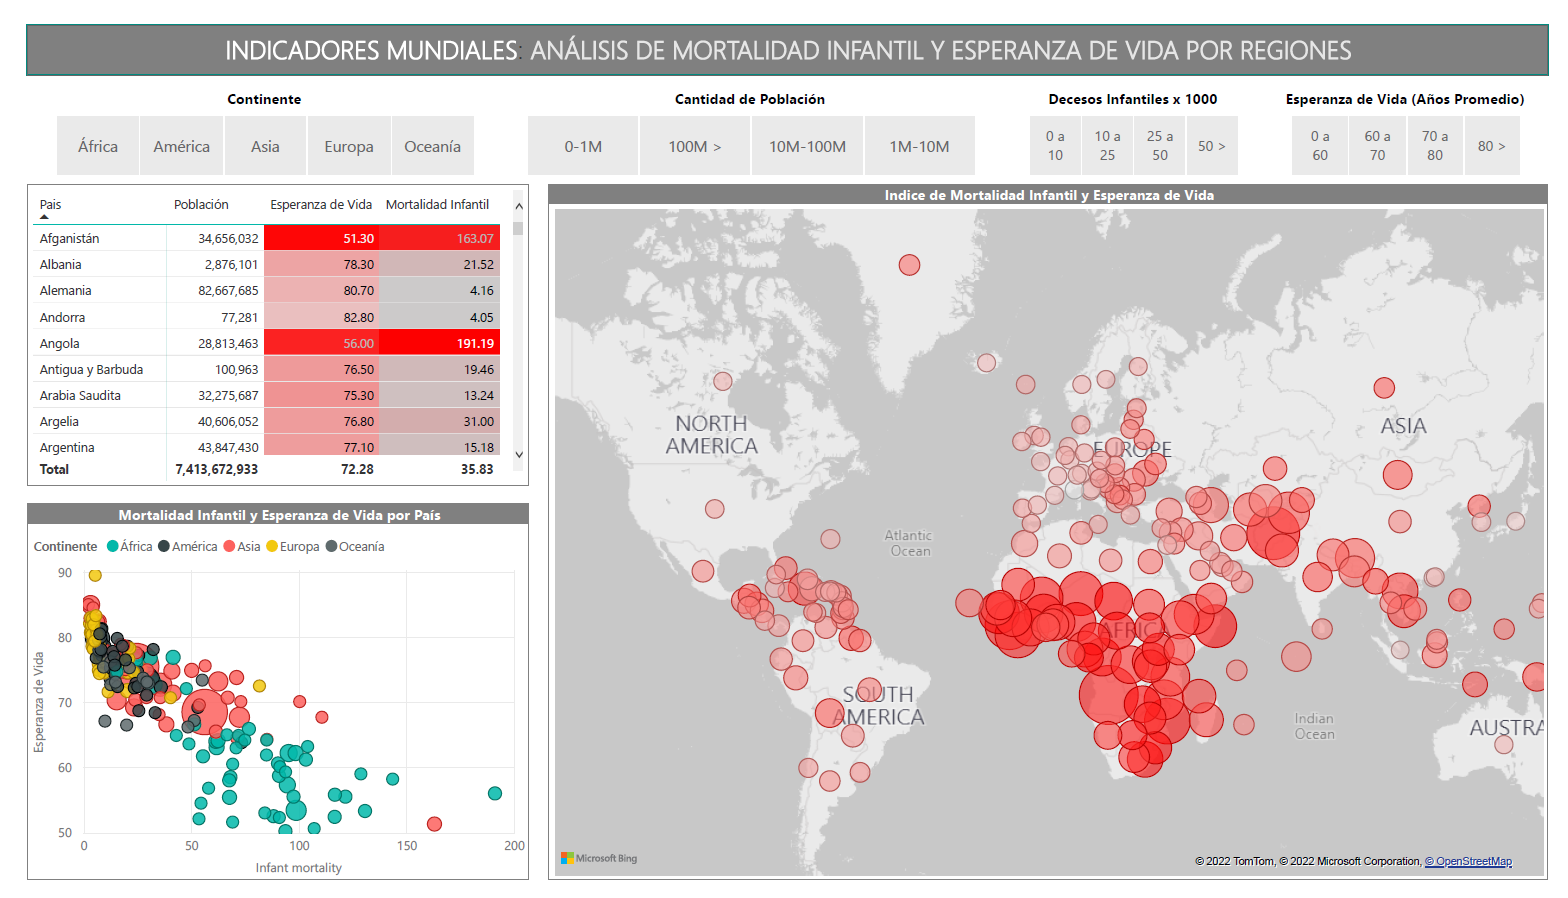

Layout of this report page (visuals, bound fields, positions):
{"tool":"powerbi","page":{"name":"Indicadores Mundiales","canvas":[1280,720],"ordinal":1},"visuals":[{"type":"slicer","title":"Esperanza de Vida (Años Promedio)","fields":{"Values":["Life expectancy.Esperanza de vida (Años promedio)"]},"box":[1038.8,54,241.2,78.9],"z":0,"group":"g1"},{"type":"pivotTable","fields":{"Rows":["Paises.Continente","Paises.Pais"],"Values":["Sum(Population.Población)","Avg(Life expectancy.Esperanza de Vida)","Avg(Infant death rate.Monrtalidad Infantil)"]},"box":[0,133.6,423.4,254.4],"z":0},{"type":"slicer","title":"Continente","fields":{"Values":["Paises.Continente"]},"box":[0,54,399.9,78.9],"z":1000,"group":"g1"},{"type":"map","title":"Indice de Mortalidad Infantil y Esperanza de Vida","fields":{"Category":["Paises.Pais"],"Size":["Sum(Infant death rate.Infant mortality)"]},"box":[438.9,133.9,841.5,586.1],"z":1000},{"type":"slicer","title":"Decesos Infantiles x 1000","fields":{"Values":["Infant death rate.Decesos infantiles x 1000"]},"box":[818.1,54,224.3,78.9],"z":2000,"group":"g1"},{"type":"scatterChart","title":"Mortalidad Infantil y Esperanza de Vida por País","fields":{"X":["Sum(Infant death rate.Infant mortality)"],"Y":["Sum(Life expectancy.Esperanza de Vida)"],"Category":["Paises.Pais"],"Series":["Paises.Continente"],"Size":["Sum(Population.Población)"]},"box":[0,402.8,423.4,317.3],"z":2000},{"type":"slicer","title":"Cantidad de Población","fields":{"Values":["Population.Cantidad Población"]},"box":[396.7,54,424.7,78.9],"z":3000,"group":"g1"},{"type":"group","id":"g1","title":"Group 1","box":[0,54,1280,79.6],"z":3000},{"type":"shape","box":[0,0,1280.4,42.6],"z":4000},{"type":"textbox","box":[0,0,1280.4,42.6],"z":5000}]}

Visuals, with their boxes in screenshot pixels (x1, y1, x2, y2), scaled from the page's 1280x720 canvas onto the 1568x898 screenshot:
"Esperanza de Vida (Años Promedio)" slicer: (x1=1273, y1=67, x2=1567, y2=166)
pivotTable - Paises.Continente x Paises.Pais: (x1=0, y1=167, x2=519, y2=484)
"Continente" slicer: (x1=0, y1=67, x2=490, y2=166)
"Indice de Mortalidad Infantil y Esperanza de Vida" map: (x1=538, y1=167, x2=1567, y2=897)
"Decesos Infantiles x 1000" slicer: (x1=1002, y1=67, x2=1277, y2=166)
"Mortalidad Infantil y Esperanza de Vida por País" scatterChart: (x1=0, y1=502, x2=519, y2=897)
"Cantidad de Población" slicer: (x1=486, y1=67, x2=1006, y2=166)
"Group 1" group: (x1=0, y1=67, x2=1567, y2=167)
shape: (x1=0, y1=0, x2=1567, y2=53)
textbox: (x1=0, y1=0, x2=1567, y2=53)
